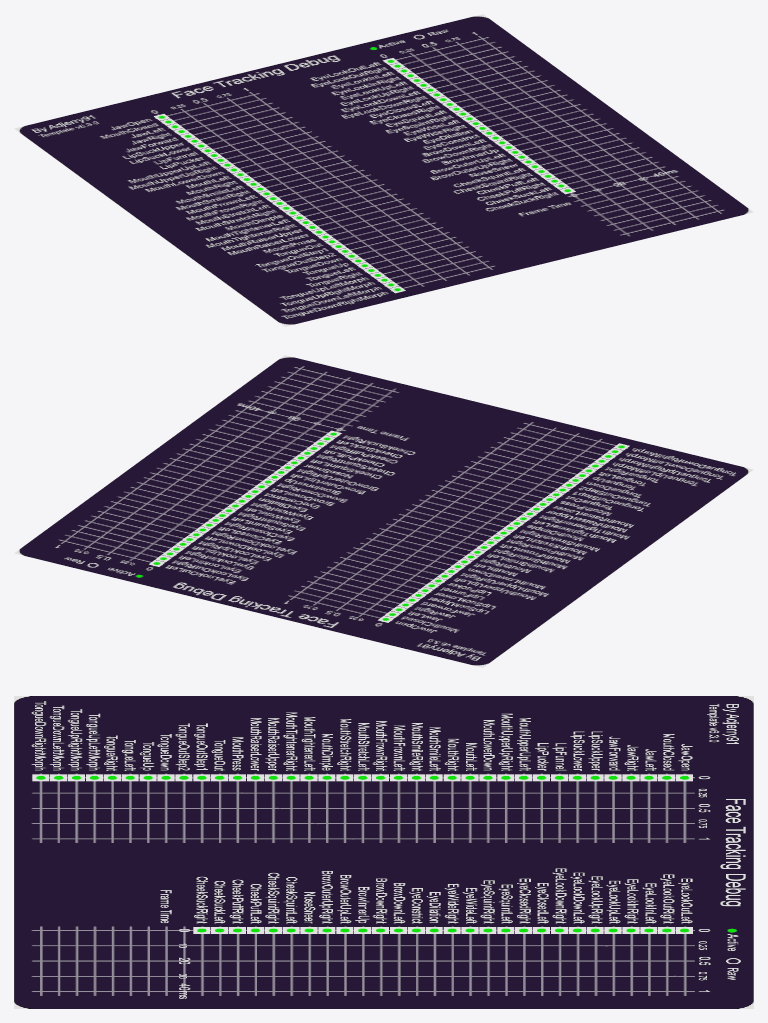
The model's file is FT_UE_Debug.fbx.
3 renders of one model, top to bottom at view 1: azimuth 30°, elevation 25°; view 2: azimuth 150°, elevation 25°; view 3: azimuth 270°, elevation 25°, orthographic. The views are drawn at different scales.
Visible parts, largest first — view 1: Debug; view 2: Debug; view 3: Debug.
Boxes of the visible parts, bbox=[...] form: Debug: bbox=[14, 14, 753, 326]; Debug: bbox=[14, 355, 753, 667]; Debug: bbox=[14, 696, 753, 1008].
Size of the model in its own units: 0.75 by 4.94e-07 by 0.75.
